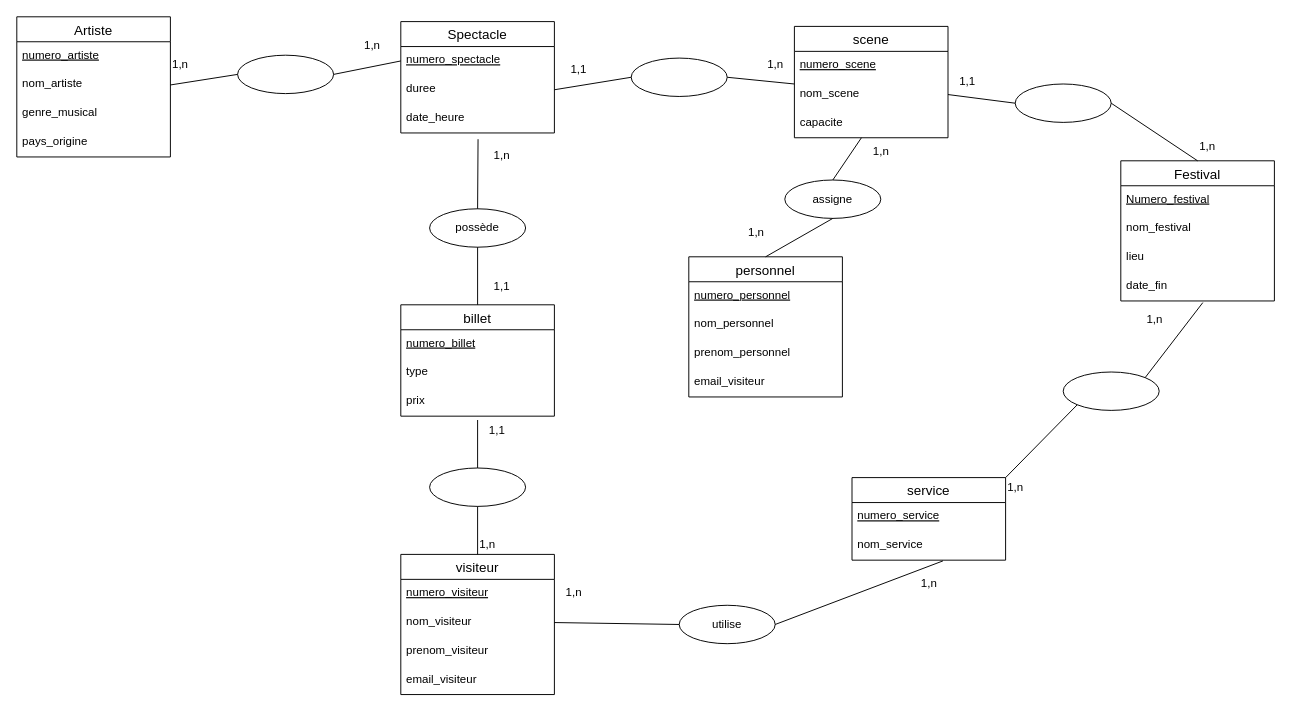
This 1291x714 diagram has some shape labels left out. Here are the shapes that lost their labels. From the top down, the centre of each, then its label:
At (x=285, y=74): "performe".
At (x=678, y=76): "se déroule".
At (x=1062, y=102): "localiser".
At (x=1110, y=390): "offre".
At (x=477, y=486): "achète".
